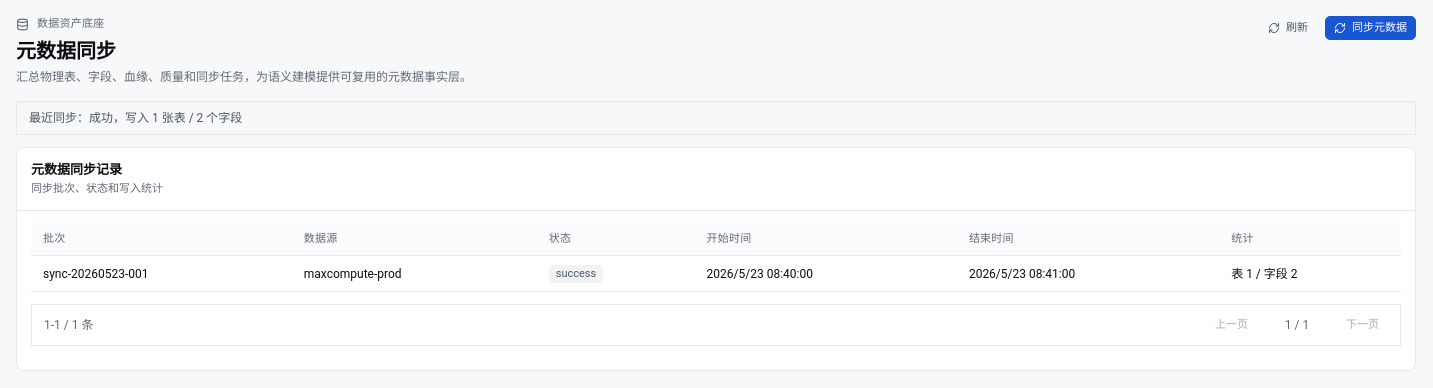
Test: 数据资产底座工作区 › 点击同步元数据按钮触发 API
The image size is (1433, 388).
Click the button "同步元数据" at [1370, 28], box [1325,16,1416,40]
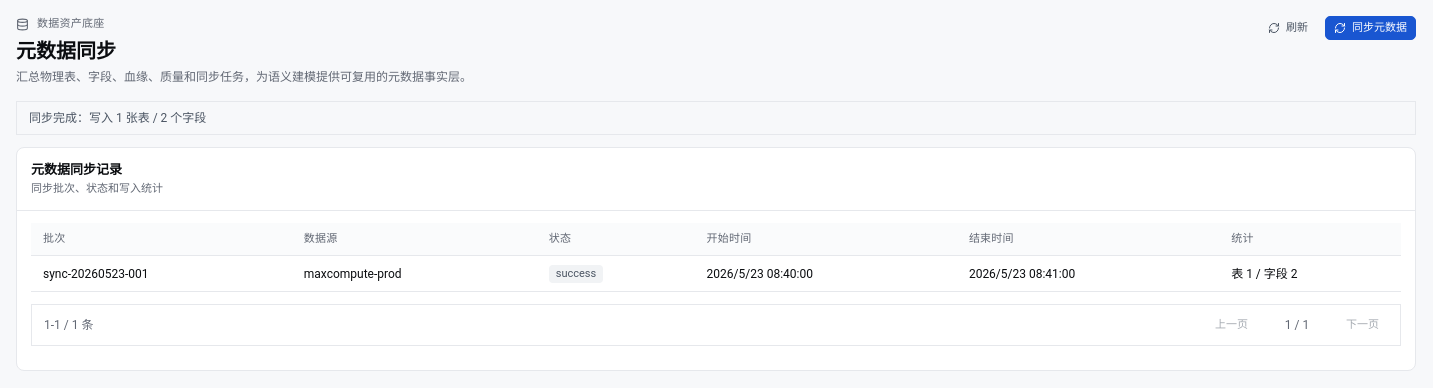
Expected: the text "同步完成：写入 1 张表 / 2 个字段" is shown, [16,100,1416,134]
